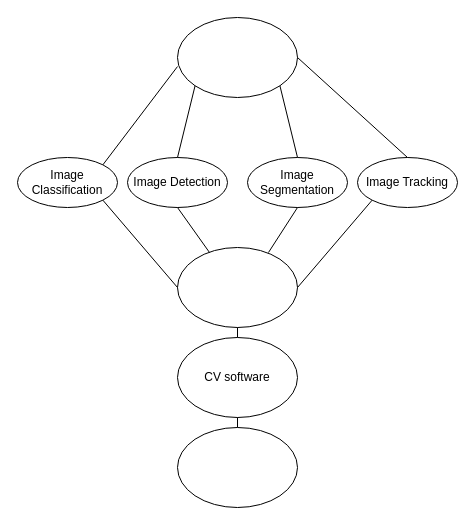
Some shapes in this 475 by 525 pixel diagram are drawn without their labels. Here are the shapes that lost their labels. From the top down, the centre of each, then its label:
At (237,57): "CV Models".
At (237,287): "Training of CV models".
At (237,467): "Use of CV".
